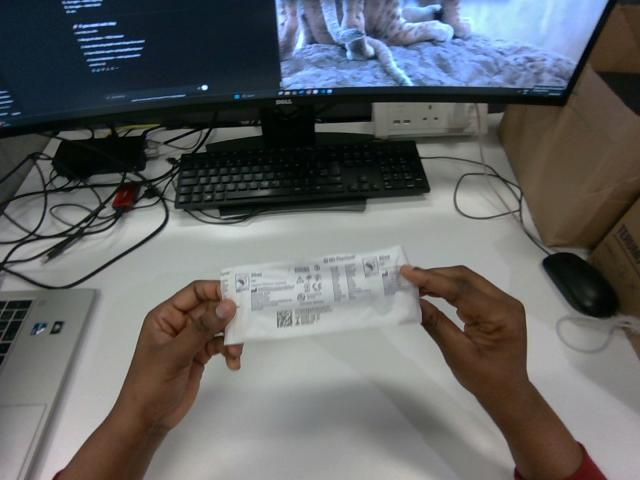syringe: (221, 246, 420, 344)
